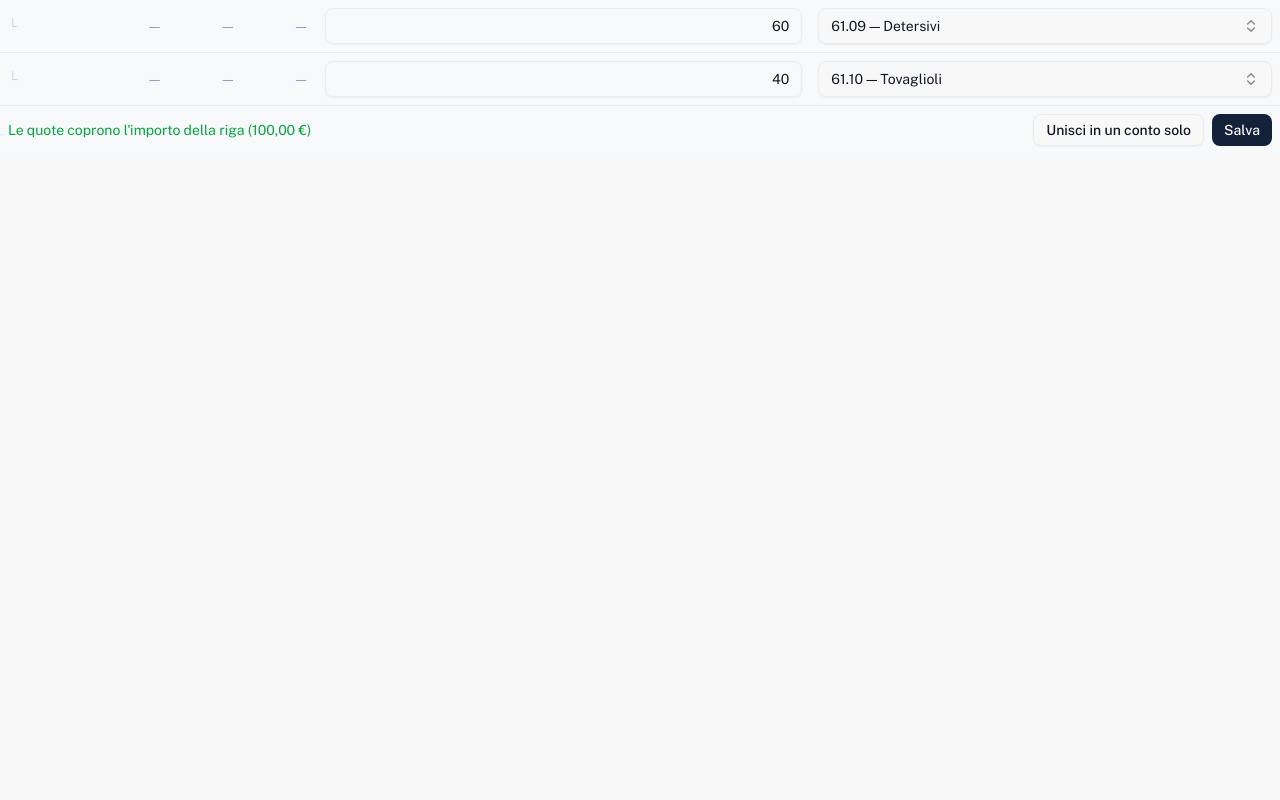
RigaDivisibile — rendering › annullando la conferma di unione non parte nessuna richiesta
The image size is (1280, 800).
Click the button "Unisci in un conto solo": (1119, 130) left=1033, top=114, right=1204, bottom=146
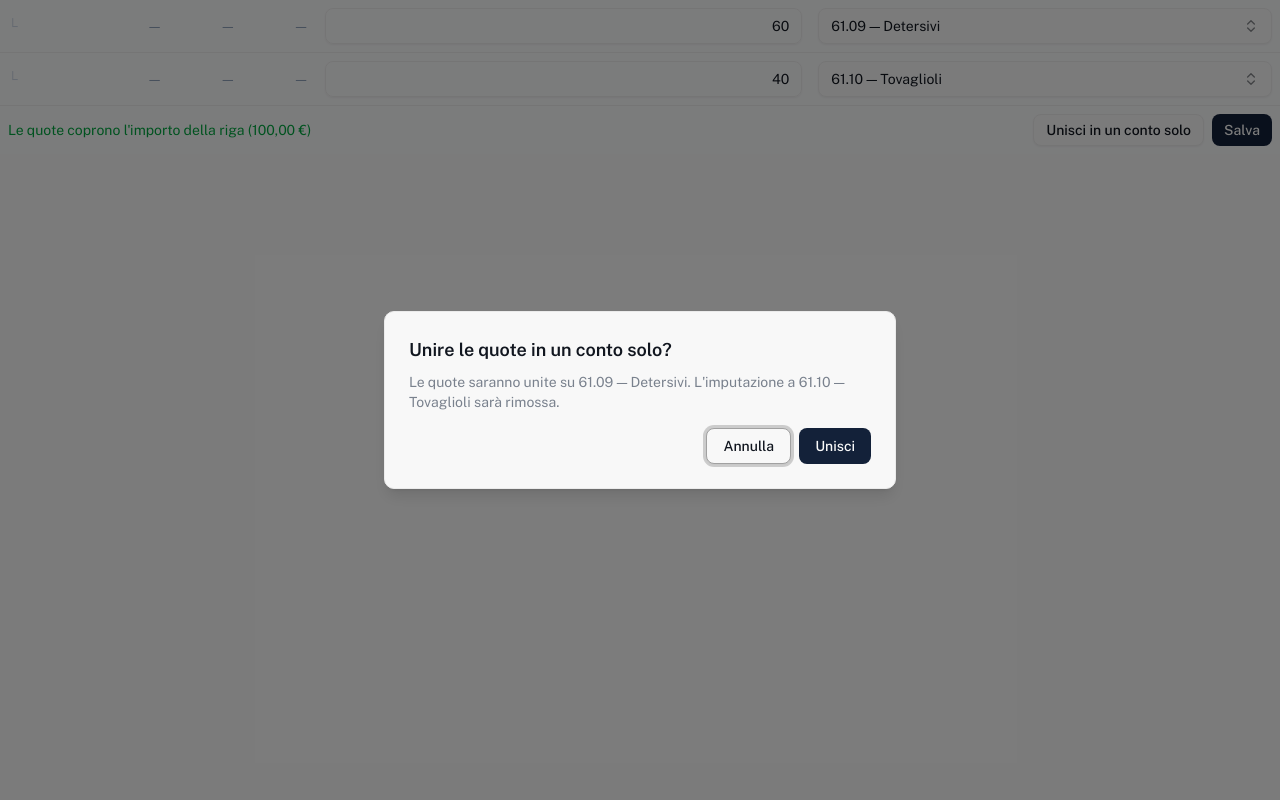
Expected: the heading "Unire le quote in un conto solo?" is shown, left=409, top=339, right=672, bottom=360
Click the button "Annulla": (749, 446) left=706, top=428, right=791, bottom=464
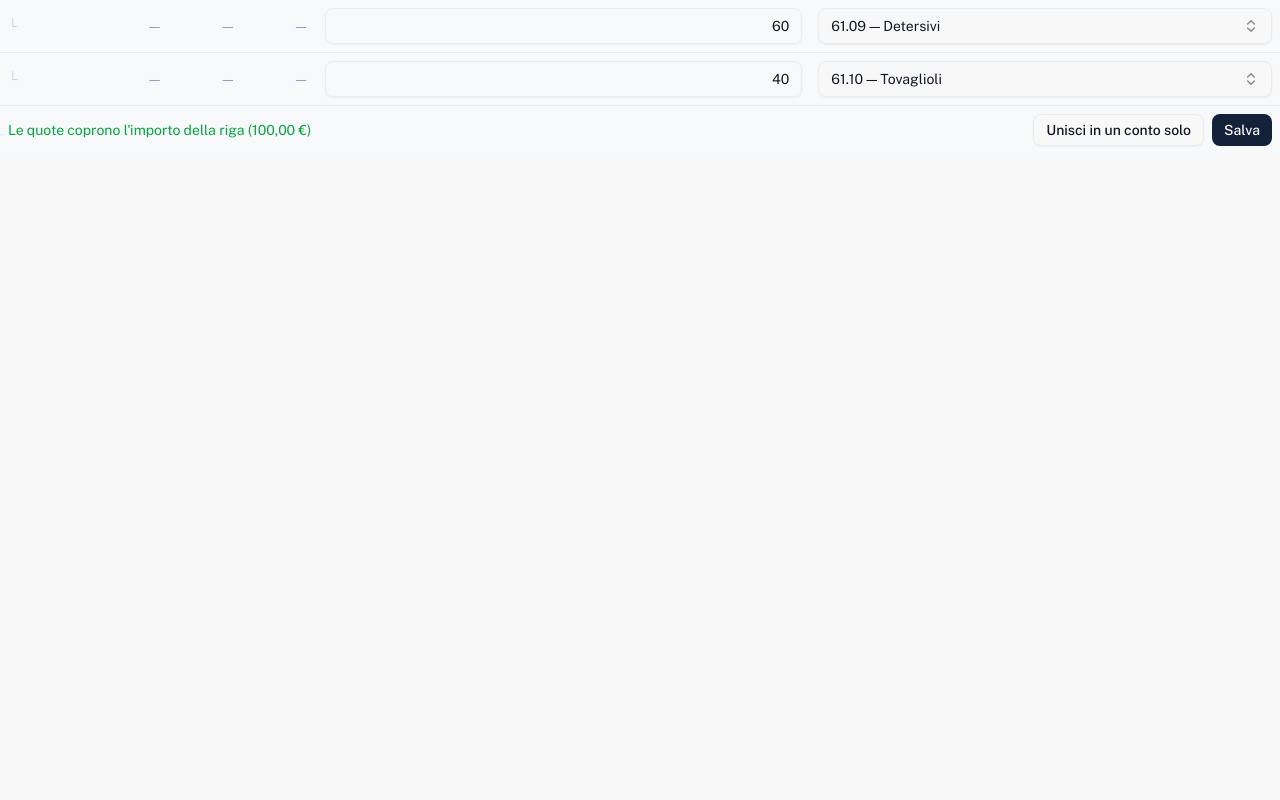
Expected: the heading "Unire le quote in un conto solo?" is gone
